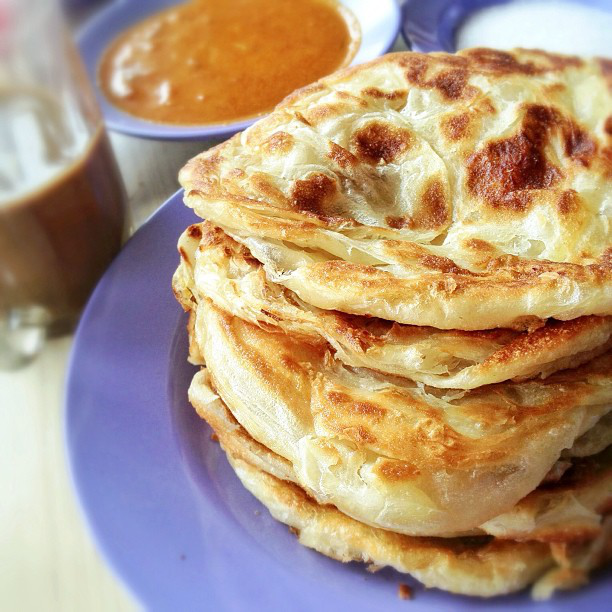Prata: (161, 35, 611, 313), (186, 301, 611, 522), (181, 398, 610, 600), (169, 217, 598, 392)
